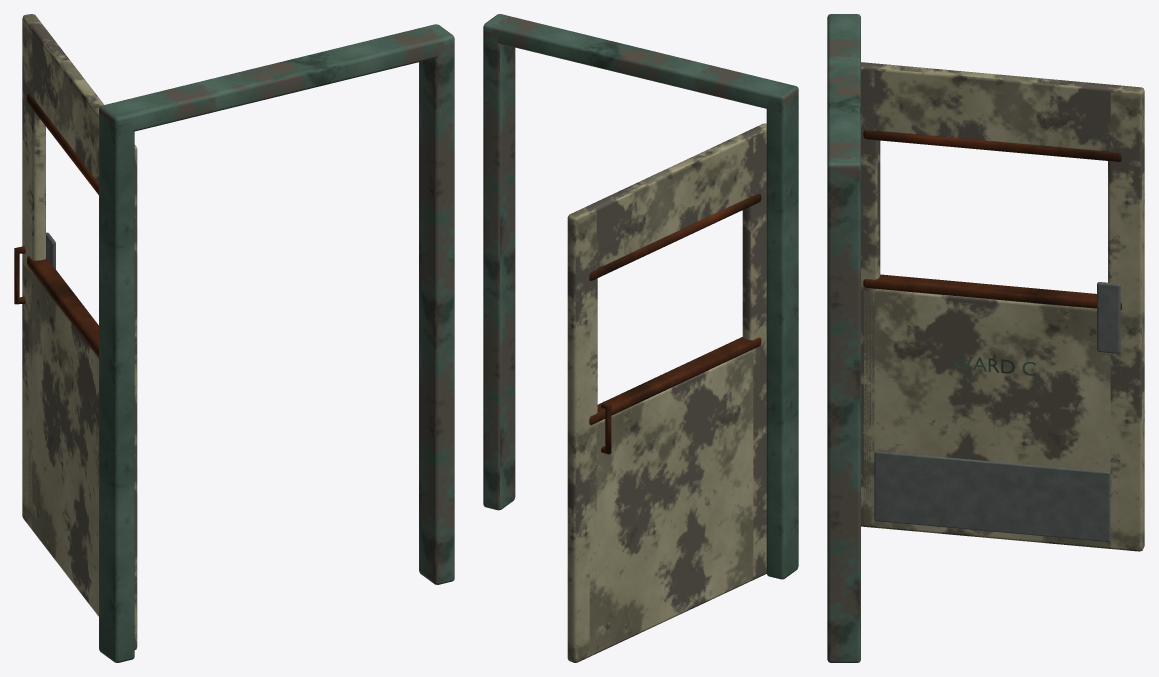
Rendered from hospital_door.glb.
3 renders of one model, left to right at view 1: azimuth 30°, elevation 25°; view 2: azimuth 150°, elevation 25°; view 3: azimuth 270°, elevation 25°, orthographic. The views are drawn at different scales.
Parts seen in each view (by area): view 1: Door frame jamb, Door frame jamb.001, Hospital door panel, Door frame lintel, Door window side.001, Hospital door panel.001, Missing door window bottom frame, Door window side, Missing door window upper frame; view 2: Hospital door panel, Door frame jamb, Door frame jamb.001, Door window side.001, Hospital door panel.001, Door frame lintel, Door window side, Missing door window bottom frame, Missing door window upper frame; view 3: Hospital door panel, Door kickplate, Door frame jamb.001, Hospital door panel.001, Door window side.001, Door window side, Door frame lintel, Missing door window bottom frame, Missing door window upper frame, Door push plate, Door warning.
Part boxes in pixels (x1,y1,x2,y2): Door frame jamb: (99, 113, 134, 662); Door frame jamb.001: (419, 43, 454, 584); Hospital door panel: (28, 269, 98, 616); Door frame lintel: (99, 24, 454, 133); Door window side.001: (22, 14, 45, 530); Hospital door panel.001: (28, 22, 103, 182); Missing door window bottom frame: (27, 256, 98, 357); Door window side: (134, 144, 137, 649); Missing door window upper frame: (27, 93, 98, 194); Hospital door panel: (589, 349, 760, 656); Door frame jamb: (766, 92, 798, 579); Door frame jamb.001: (483, 30, 515, 510); Door window side.001: (567, 208, 597, 662); Hospital door panel.001: (582, 129, 759, 270); Door frame lintel: (483, 14, 798, 109); Door window side: (742, 123, 766, 580); Missing door window bottom frame: (589, 337, 761, 424); Missing door window upper frame: (589, 193, 761, 280); Hospital door panel: (864, 289, 1121, 549); Door kickplate: (874, 451, 1110, 541); Door frame jamb.001: (827, 170, 860, 662); Hospital door panel.001: (864, 62, 1123, 151); Door window side.001: (1108, 85, 1144, 551); Door window side: (861, 62, 880, 527); Door frame lintel: (827, 14, 860, 177); Missing door window bottom frame: (863, 274, 1121, 309); Missing door window upper frame: (863, 130, 1121, 161); Door push plate: (1097, 282, 1120, 353); Door warning: (950, 355, 1035, 375).
Size of the model in its own units: 1.49 by 2.28 by 1.31.
Materials: 4 (4 with a texture image).
